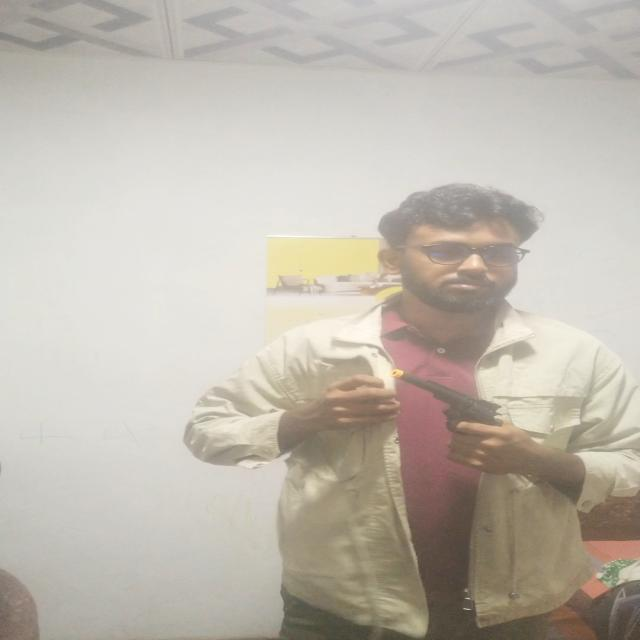Gun_Holder: (371, 363, 534, 454)
Jacket_Wearer: (172, 296, 640, 616)
Person: (179, 181, 640, 640)
